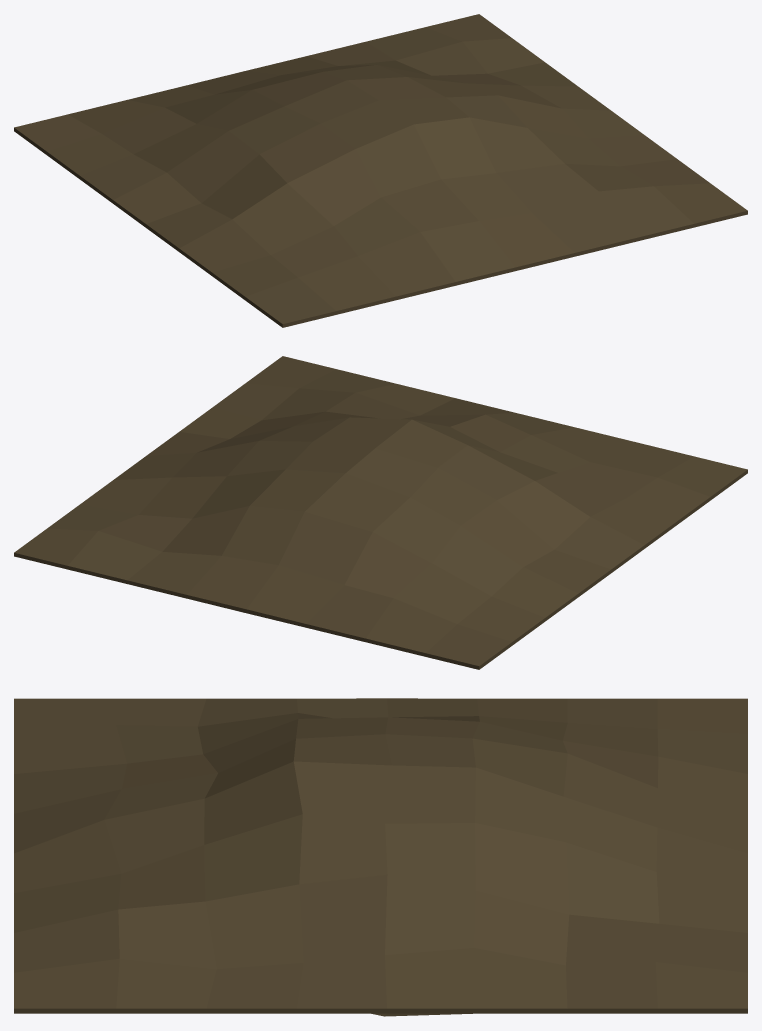
Rendered from BigHump.2.fbx.
The picture shows the model from 3 angles, top to bottom: view 1: azimuth 30°, elevation 25°; view 2: azimuth 150°, elevation 25°; view 3: azimuth 270°, elevation 25°; orthographic projection. The views are drawn at different scales.
Parts seen in each view (by area): view 1: Floor.Hump.2; view 2: Floor.Hump.2; view 3: Floor.Hump.2.
Part boxes in pixels (bbox=[...]): Floor.Hump.2: bbox=[14, 14, 747, 327]; Floor.Hump.2: bbox=[14, 356, 747, 669]; Floor.Hump.2: bbox=[14, 698, 747, 1016].
Bounding box in the file's own units: 1299 × 388 × 1300.
